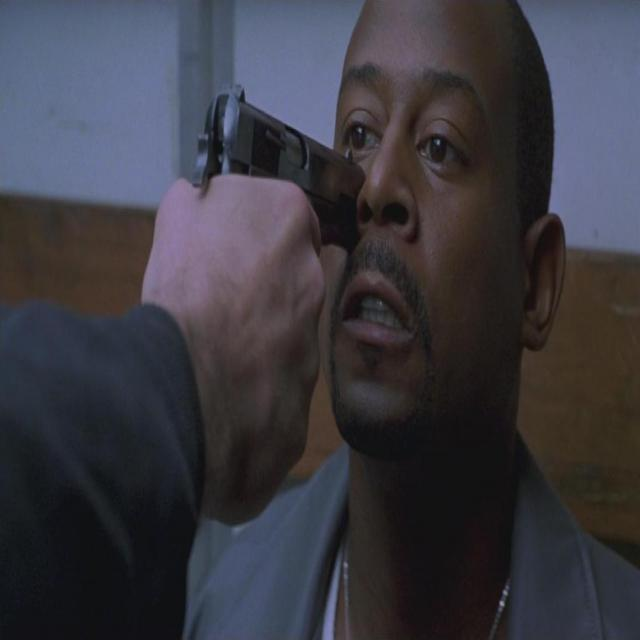gun-knife-thesis - v11 Yolov5 augmented: (169, 91, 361, 482)
